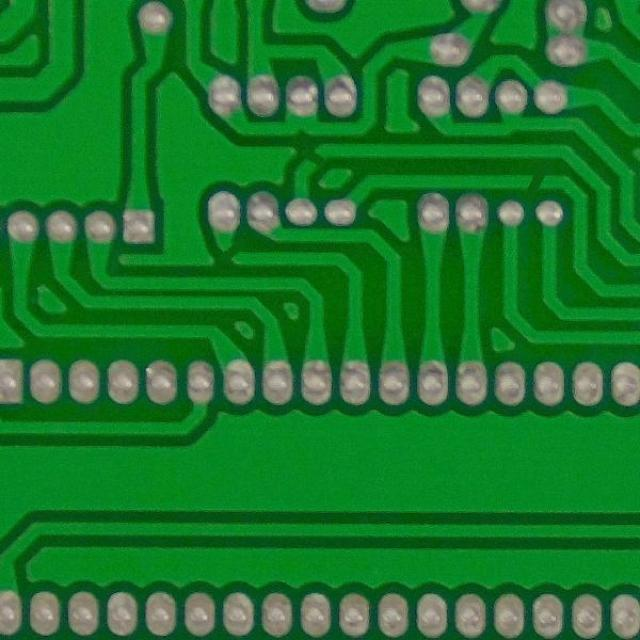Open_Circuit: (292, 140, 334, 180), (513, 166, 561, 196)
